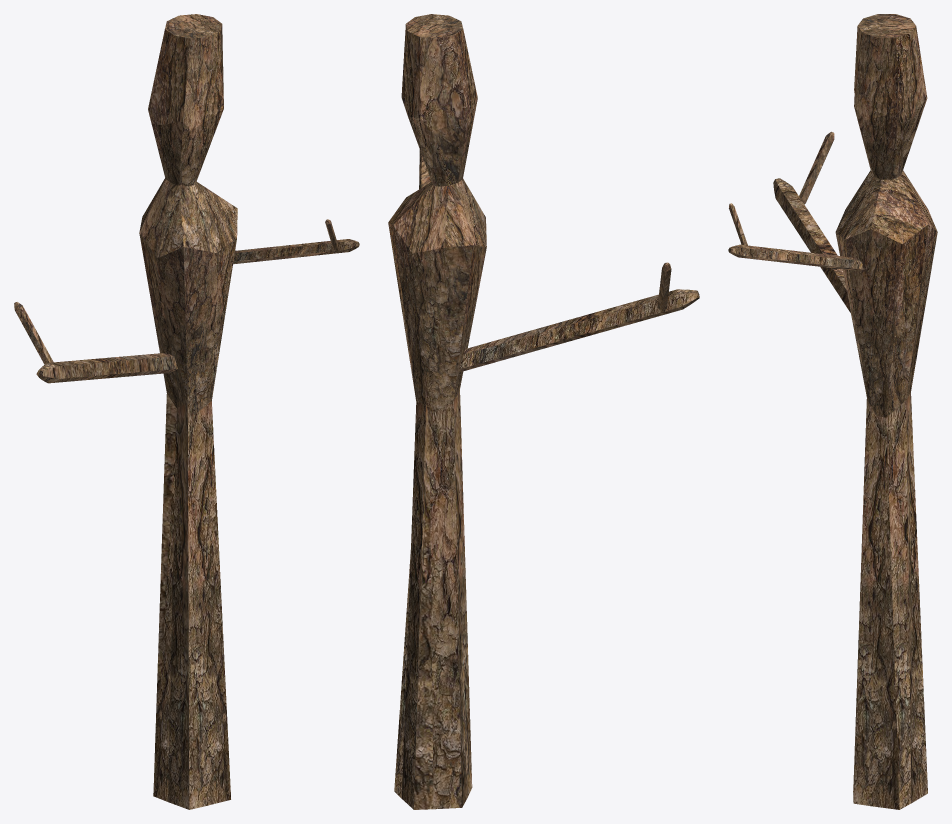
File: humanoidtree_7.glb
3 renders of one model, left to right at view 1: azimuth 30°, elevation 25°; view 2: azimuth 150°, elevation 25°; view 3: azimuth 270°, elevation 25°, orthographic.
Visible parts, largest first — view 1: tree7; view 2: tree7; view 3: tree7.
Boxes of the visible parts, x1,y1,x2,y2 form: tree7: [14, 14, 359, 809]; tree7: [388, 14, 699, 809]; tree7: [728, 14, 937, 809].
Size of what is drawn, in the model's own units: 1.17 by 2.87 by 0.7104.
Materials: 1 (1 with a texture image).
